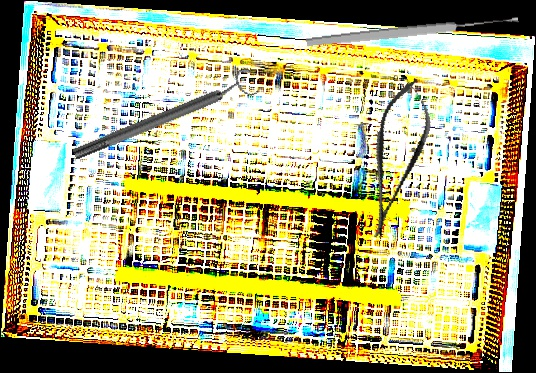Fixation Ring: (68, 65, 260, 169)
Micro Scissor: (350, 74, 442, 244)
Surgical Spoon: (305, 13, 520, 50)
